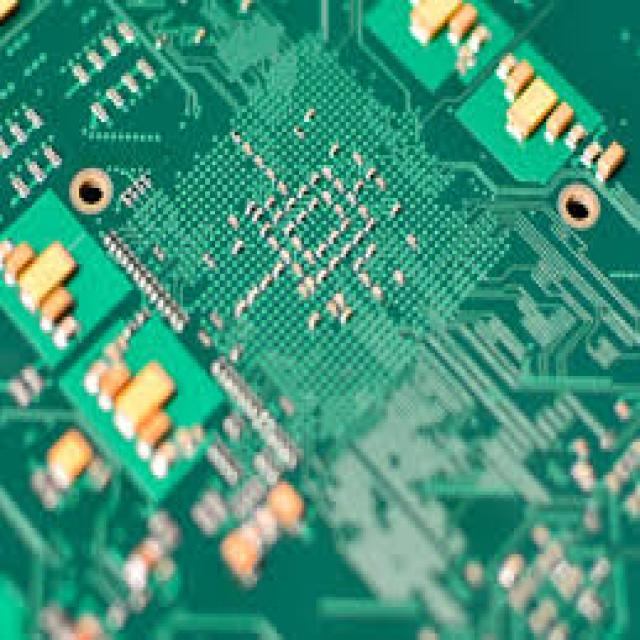pcb: (0, 0, 638, 637), (450, 36, 625, 188)
